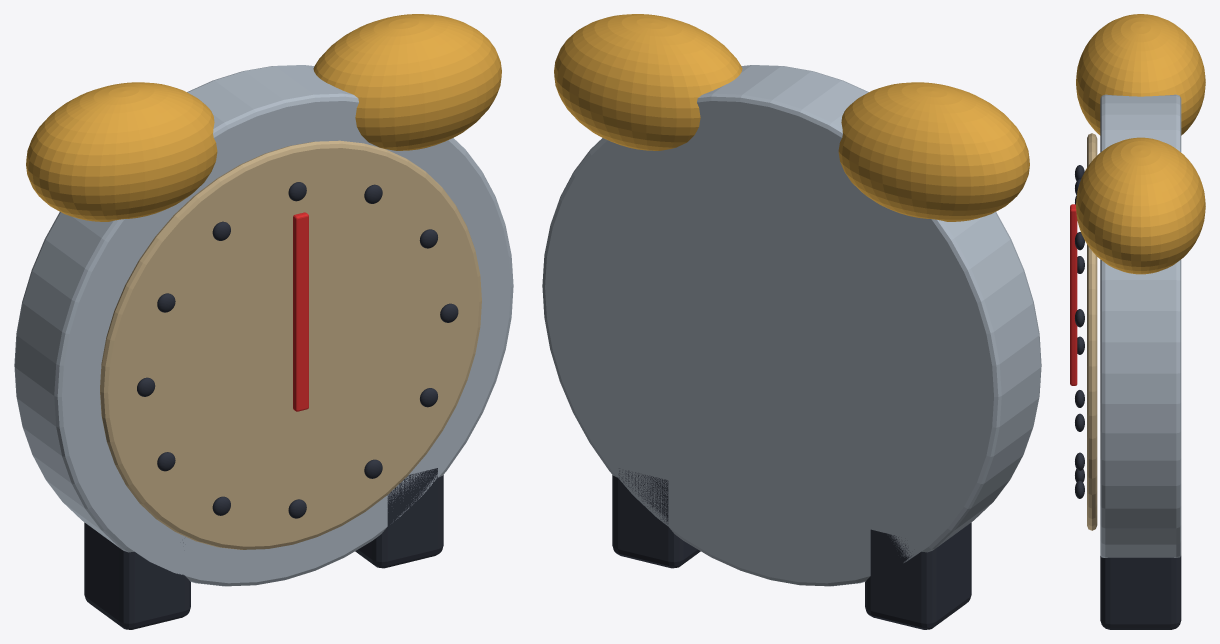
File: reveil-annees-60.glb
3 renders of one model, left to right at view 1: azimuth 30°, elevation 25°; view 2: azimuth 150°, elevation 25°; view 3: azimuth 270°, elevation 25°, orthographic. The views are drawn at different scales.
Parts seen in each view (by area): view 1: Cadran, Boitier, Cloche G, Cloche D, Pied G, Pied D, Aiguille; view 2: Boitier, Cloche G, Cloche D, Pied G, Pied D; view 3: Boitier, Cloche D, Cloche G, Pied D, Cadran, Aiguille.
Part boxes in pixels (x1,y1,x2,y2): Cadran: [100, 140, 481, 549]; Boitier: [14, 65, 513, 586]; Cloche G: [26, 82, 217, 221]; Cloche D: [313, 14, 501, 150]; Pied G: [84, 522, 190, 629]; Pied D: [355, 468, 443, 568]; Aiguille: [293, 212, 308, 411]; Boitier: [542, 65, 1041, 586]; Cloche G: [838, 82, 1029, 221]; Cloche D: [554, 14, 742, 150]; Pied G: [865, 522, 971, 629]; Pied D: [612, 468, 700, 568]; Boitier: [1100, 94, 1181, 557]; Cloche D: [1076, 137, 1205, 274]; Cloche G: [1076, 14, 1205, 135]; Pied D: [1100, 556, 1181, 629]; Cadran: [1087, 133, 1097, 530]; Aiguille: [1070, 204, 1077, 385].
Size of the model in its own units: 2.38 by 2.57 by 0.668.
